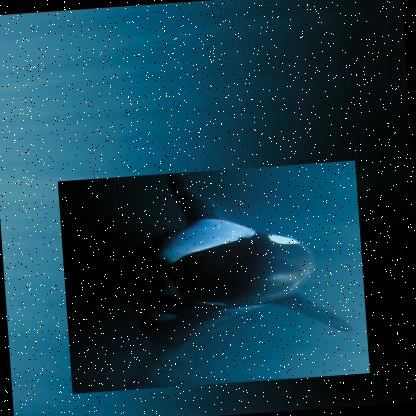killer_whale: (58, 160, 371, 394)
